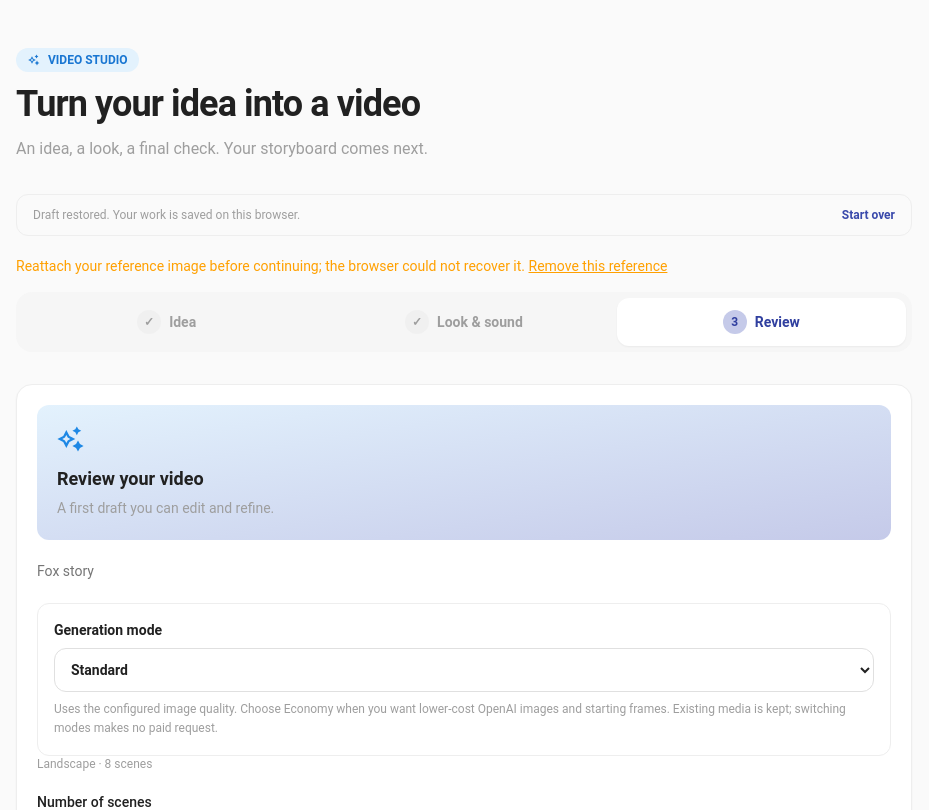
Test: requires reattaching or explicitly removing an unavailable saved reference before generation
The width and height of the screenshot is (929, 810).
expect the text "browser could not recover it" is shown: met, box x1=16 y1=258 x2=525 y2=274
Click the button "Remove this reference": coordinates (598, 266) x1=528 y1=256 x2=667 y2=276
(page scrolled)
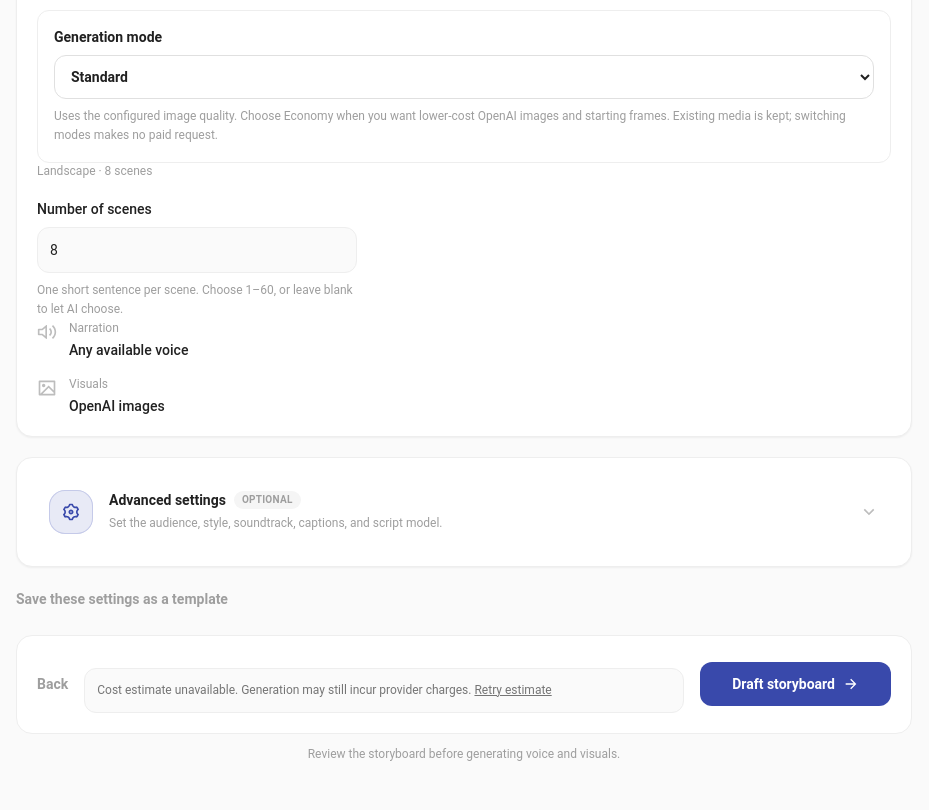
expect the button "Draft storyboard" is enabled: met, box x1=700 y1=662 x2=891 y2=706
